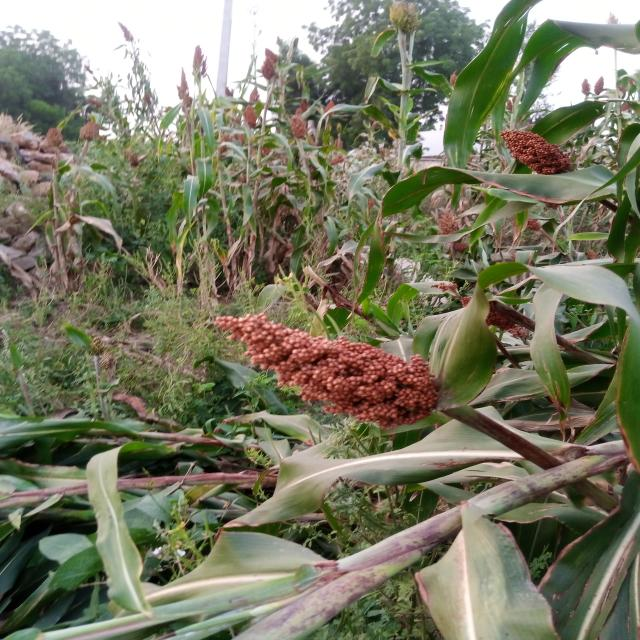RipeSorghum: (206, 285, 485, 439)
